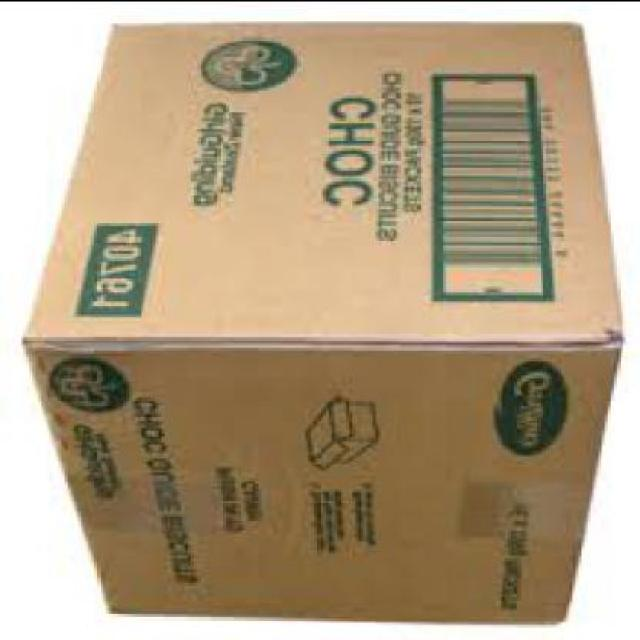CARDBOARD: (21, 20, 622, 623)
